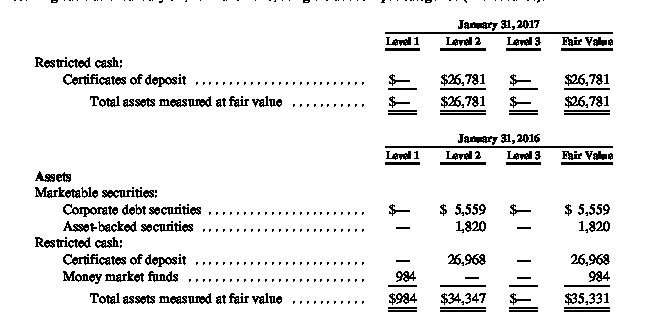table: (0, 0, 661, 319)
